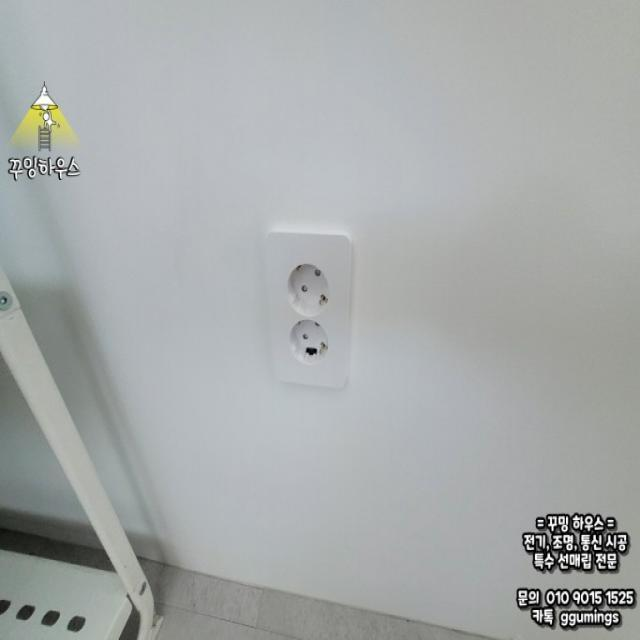typeb: (250, 217, 366, 398)
